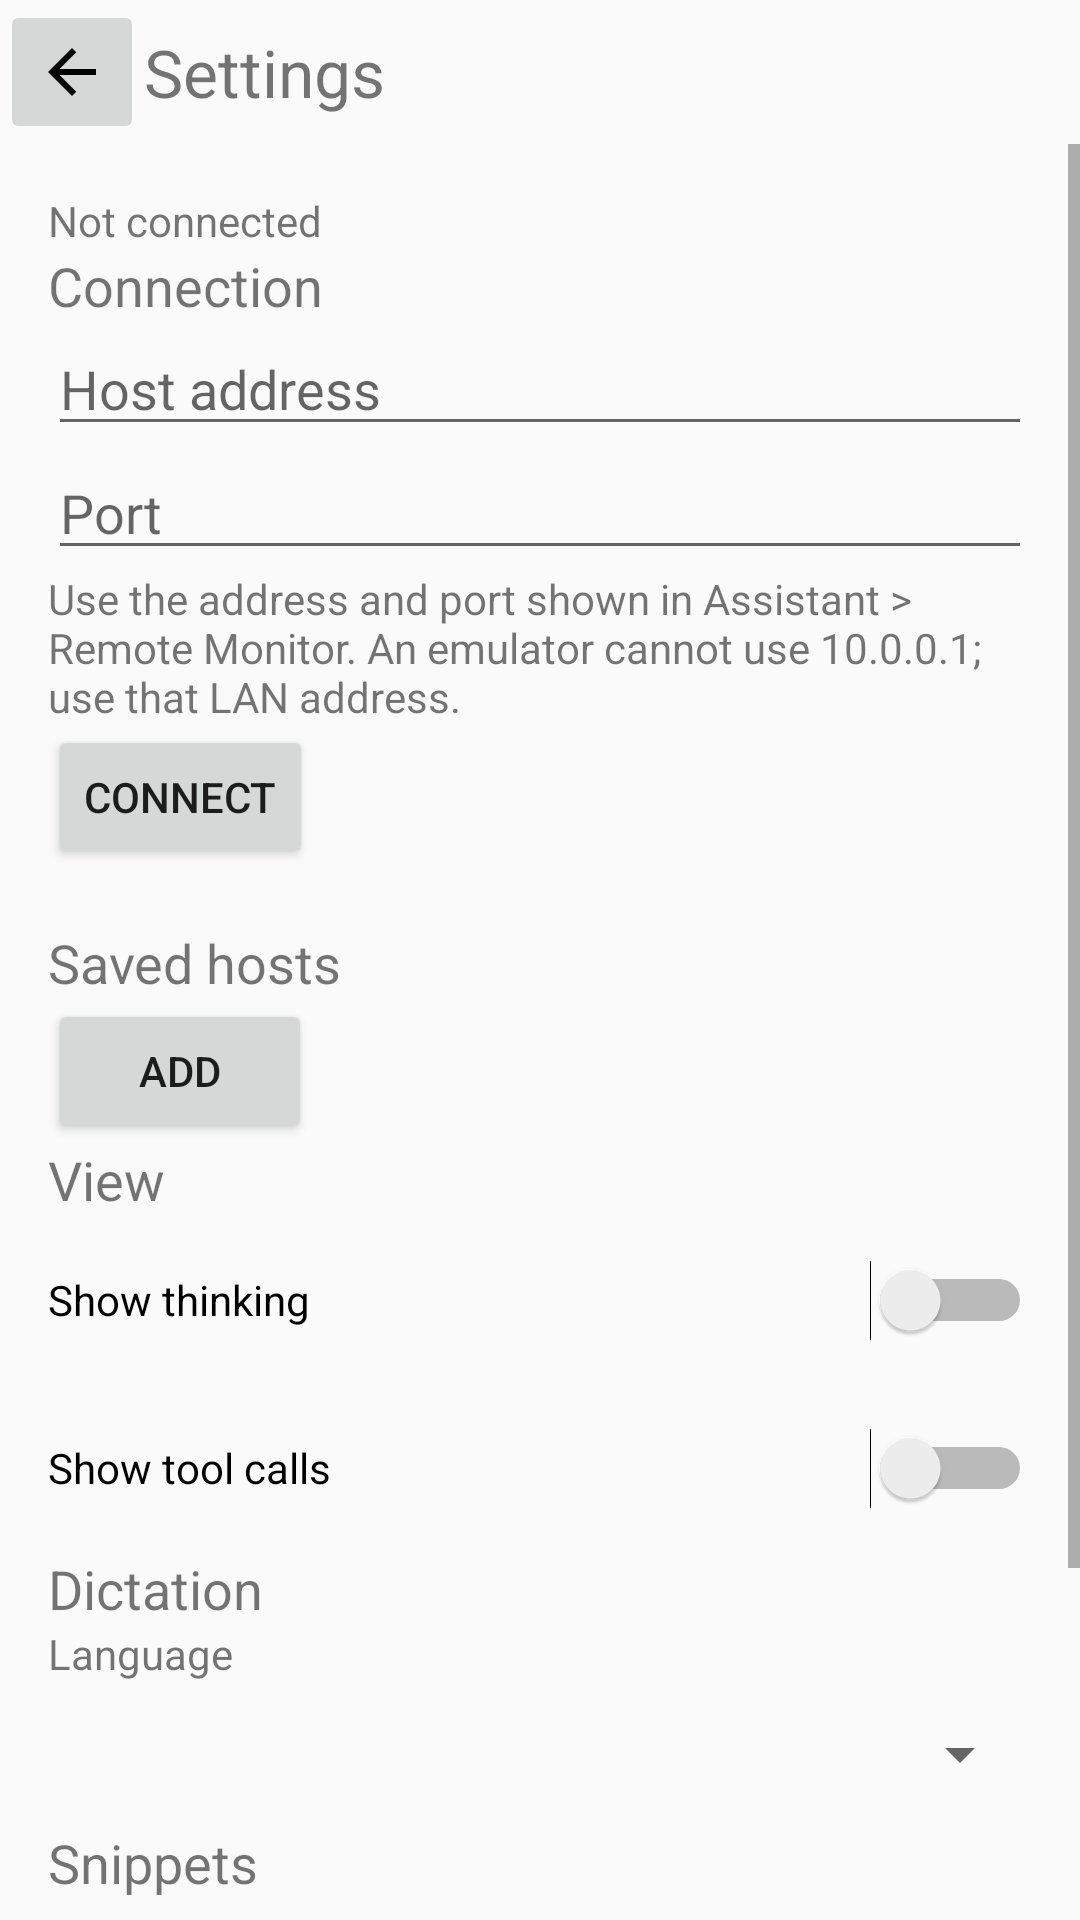

Screen size 1080px x 1920px. Icon name, then its box in pixels as (x1, y1, x2, y2):
Back: (12, 18, 132, 126)
